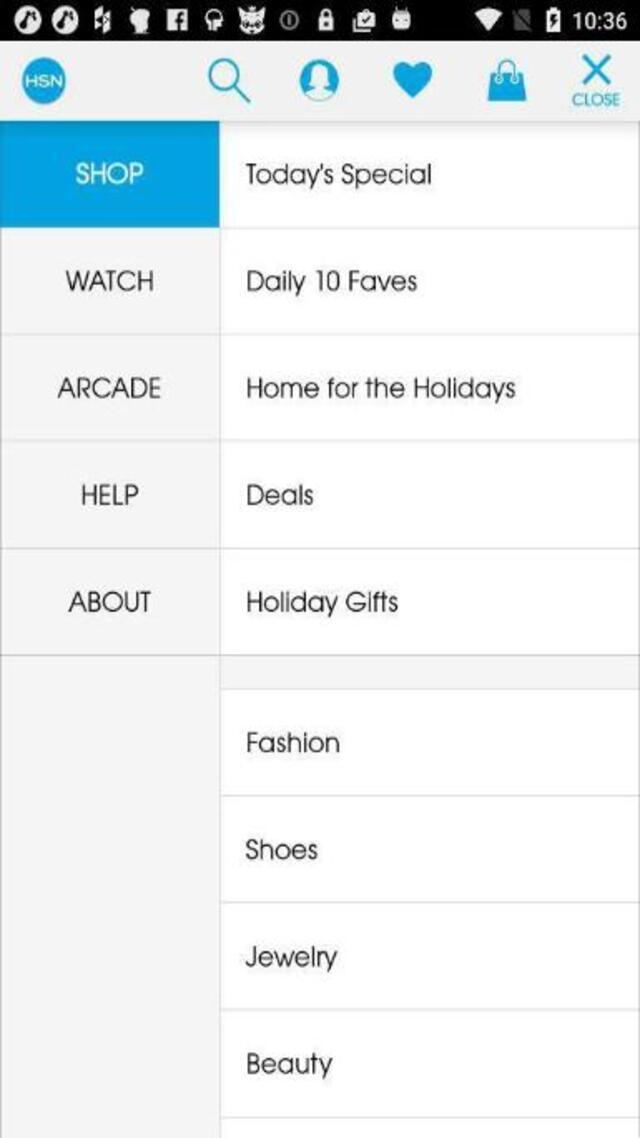Icon: (20, 56, 66, 104), (208, 57, 251, 103), (299, 59, 339, 102), (486, 59, 526, 102), (392, 61, 432, 100), (579, 54, 611, 86)
Text: (246, 376, 514, 403), (244, 162, 430, 190), (247, 268, 418, 297), (246, 590, 399, 616), (245, 945, 338, 972), (58, 376, 161, 399), (246, 1052, 332, 1078), (247, 730, 338, 753), (64, 268, 154, 290), (68, 590, 151, 612), (74, 160, 144, 185), (246, 836, 316, 860), (247, 483, 312, 506), (81, 483, 138, 506), (571, 91, 619, 108)
